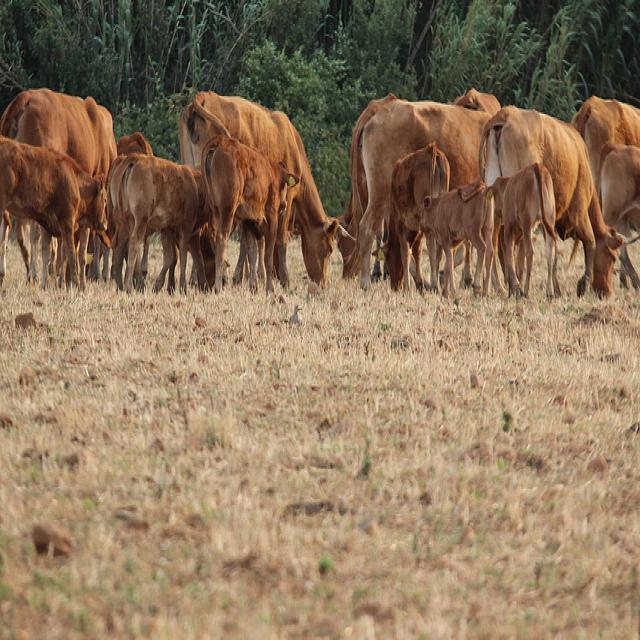cow: (177, 88, 338, 285), (348, 90, 492, 292), (478, 104, 622, 299), (0, 132, 119, 289), (198, 129, 301, 298), (107, 153, 204, 294), (0, 86, 117, 185), (484, 161, 558, 299), (383, 144, 446, 291), (436, 180, 493, 298), (114, 134, 150, 155)
